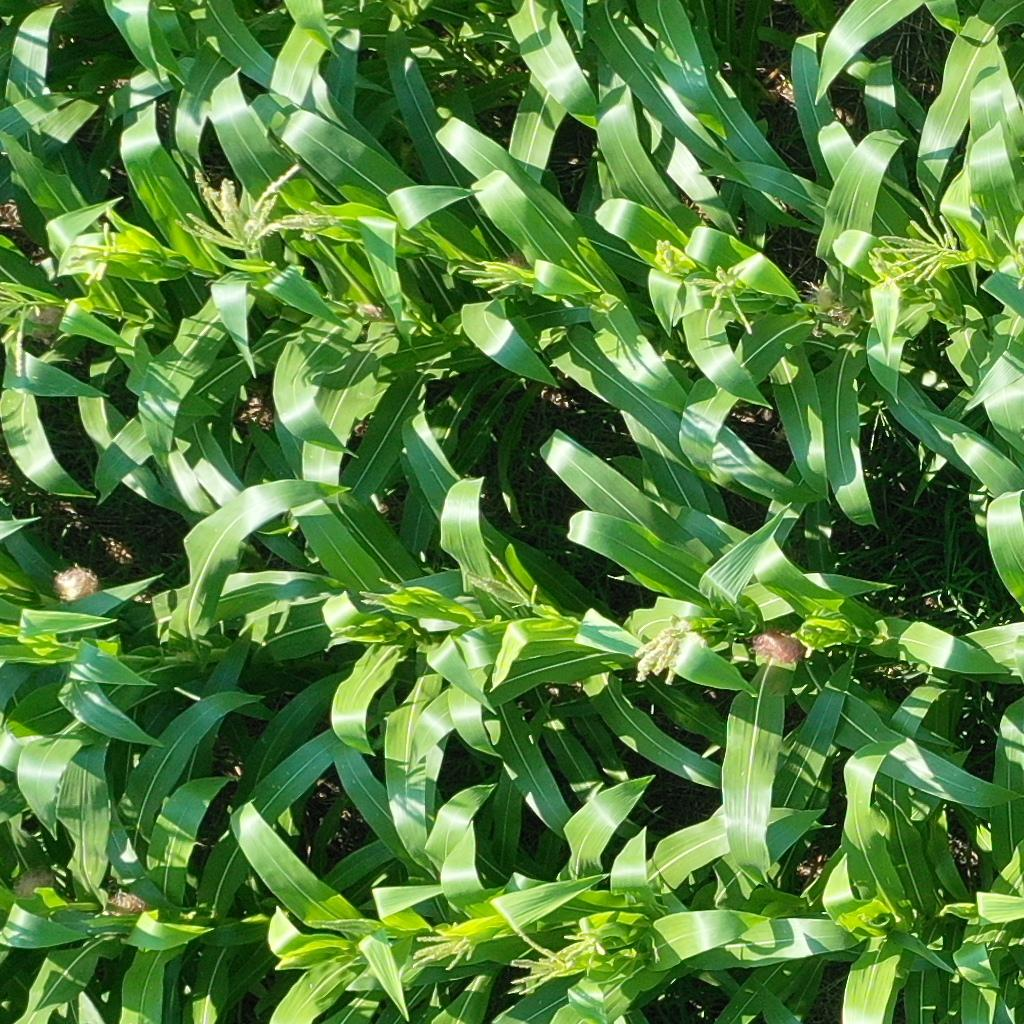Tassel: (173, 163, 310, 267), (864, 207, 974, 286), (495, 913, 574, 997), (628, 613, 700, 684), (461, 551, 543, 613), (53, 218, 123, 285), (696, 261, 757, 333), (402, 917, 479, 974), (1, 282, 44, 378), (273, 205, 346, 249), (454, 254, 528, 297), (352, 576, 425, 613), (648, 239, 704, 278), (306, 914, 384, 940), (564, 923, 607, 969), (992, 228, 1024, 287)
